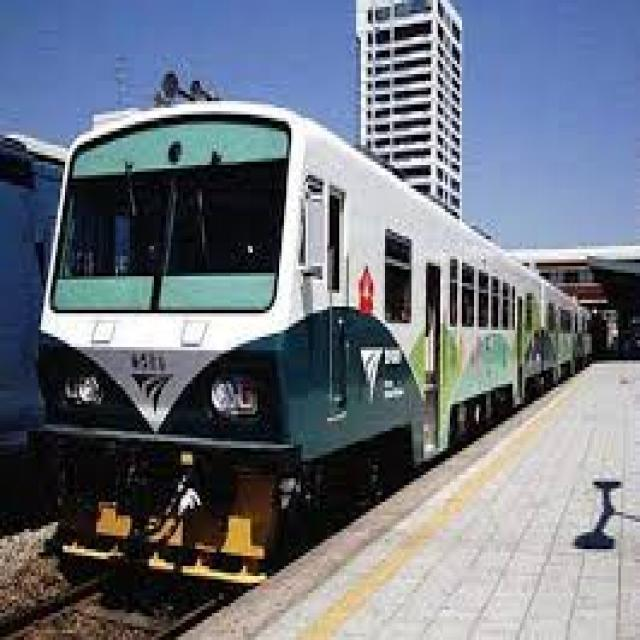trains: (32, 100, 595, 596)
